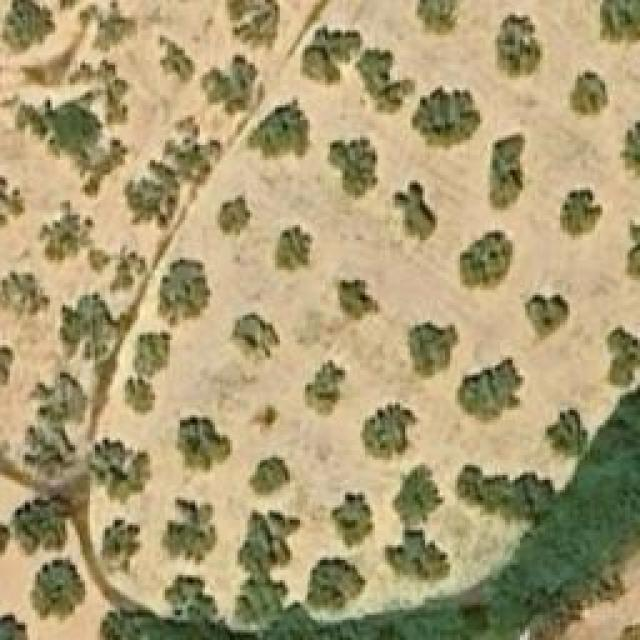Tree: (18, 98, 128, 193), (453, 468, 556, 523), (455, 358, 525, 423), (163, 117, 225, 188), (410, 88, 480, 148), (235, 508, 300, 572), (160, 498, 218, 568), (230, 573, 297, 633), (488, 133, 533, 218), (248, 95, 311, 155), (355, 48, 413, 113), (55, 295, 113, 360), (37, 200, 95, 265), (158, 258, 211, 328), (383, 530, 454, 582), (300, 27, 360, 85), (33, 560, 86, 623), (458, 230, 513, 290), (495, 12, 543, 80), (225, 0, 280, 58), (12, 498, 70, 553), (87, 443, 145, 498), (175, 415, 233, 470), (328, 135, 378, 198), (393, 465, 444, 526), (165, 573, 218, 629), (363, 403, 416, 458), (205, 58, 258, 113), (307, 560, 365, 608), (393, 183, 438, 243), (410, 323, 460, 376), (3, 0, 56, 50), (125, 165, 175, 218), (100, 517, 146, 574), (303, 360, 346, 418), (25, 428, 73, 478), (558, 188, 603, 241), (0, 273, 50, 318), (230, 313, 280, 358), (333, 490, 373, 545), (100, 600, 156, 639), (525, 292, 570, 340), (570, 68, 610, 121), (605, 328, 640, 388), (38, 377, 81, 425), (600, 0, 640, 50), (90, 10, 141, 48), (133, 330, 173, 378), (272, 225, 310, 275), (248, 453, 291, 496), (155, 38, 194, 85), (340, 278, 380, 321), (545, 413, 583, 453), (123, 375, 156, 418), (0, 175, 25, 230), (218, 197, 253, 235), (418, 0, 461, 30), (622, 120, 640, 180), (625, 213, 640, 283), (0, 612, 28, 640), (252, 405, 280, 430), (620, 622, 640, 640)
